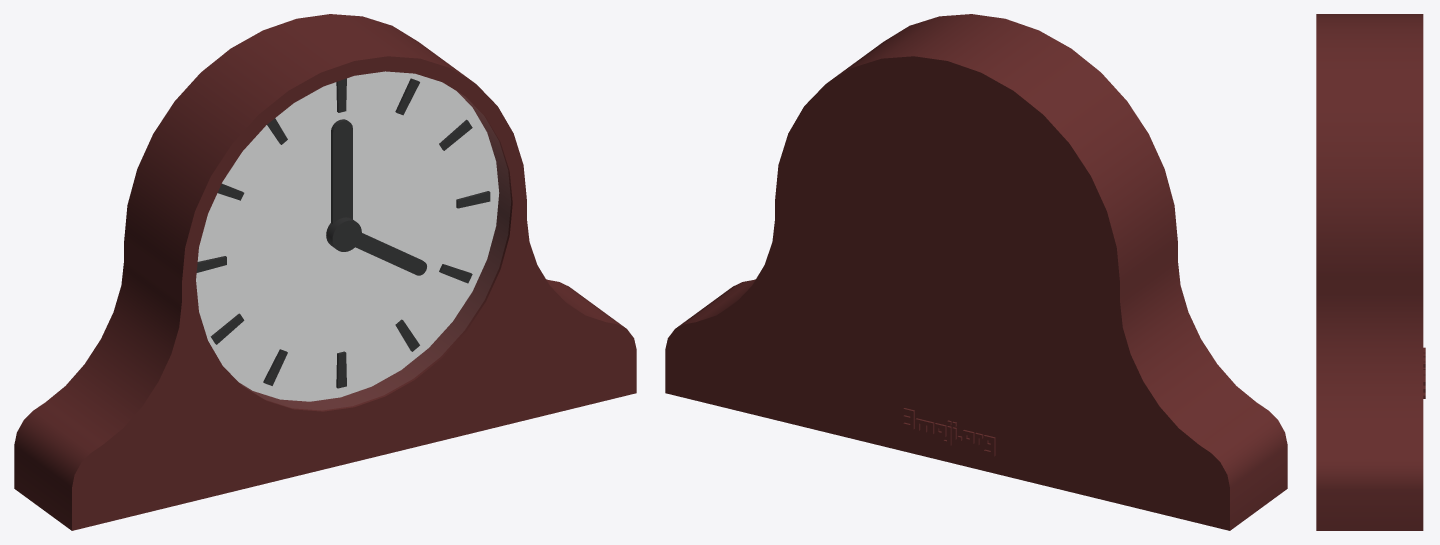
Rendered from mantelpiece_clock.fbx.
3 renders of one model, left to right at view 1: azimuth 30°, elevation 25°; view 2: azimuth 150°, elevation 25°; view 3: azimuth 270°, elevation 25°, orthographic. The views are drawn at different scales.
Parts seen in each view (by area): view 1: Circle.2426; view 2: Circle.2426; view 3: Circle.2426.
Boxes of the visible parts, bbox=[...] form: Circle.2426: bbox=[14, 14, 636, 530]; Circle.2426: bbox=[665, 14, 1287, 530]; Circle.2426: bbox=[1316, 14, 1425, 530].
Bounding box in the file's own units: 241 × 164 × 43.6.
2 materials, 1 textured.
